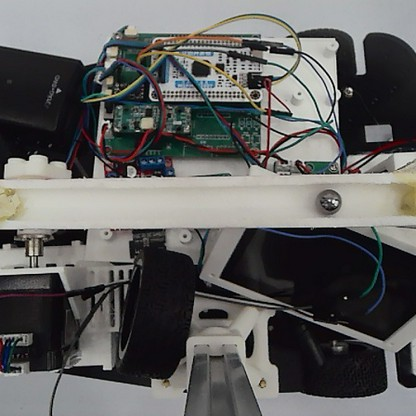ironball: (313, 185, 341, 217)
